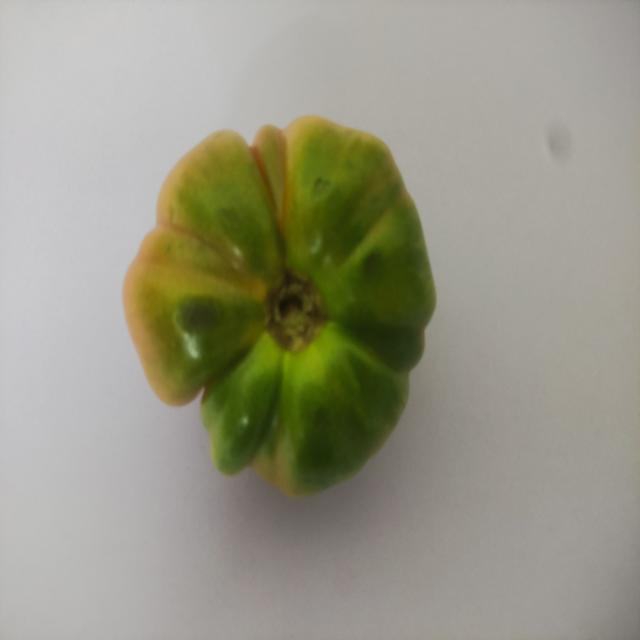yesil: (120, 107, 457, 514)
